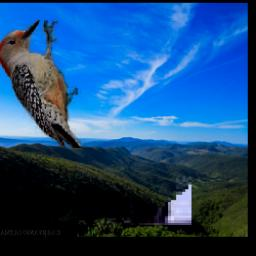Crow: (101, 3, 190, 225)
Woodpecker: (0, 20, 80, 148)
